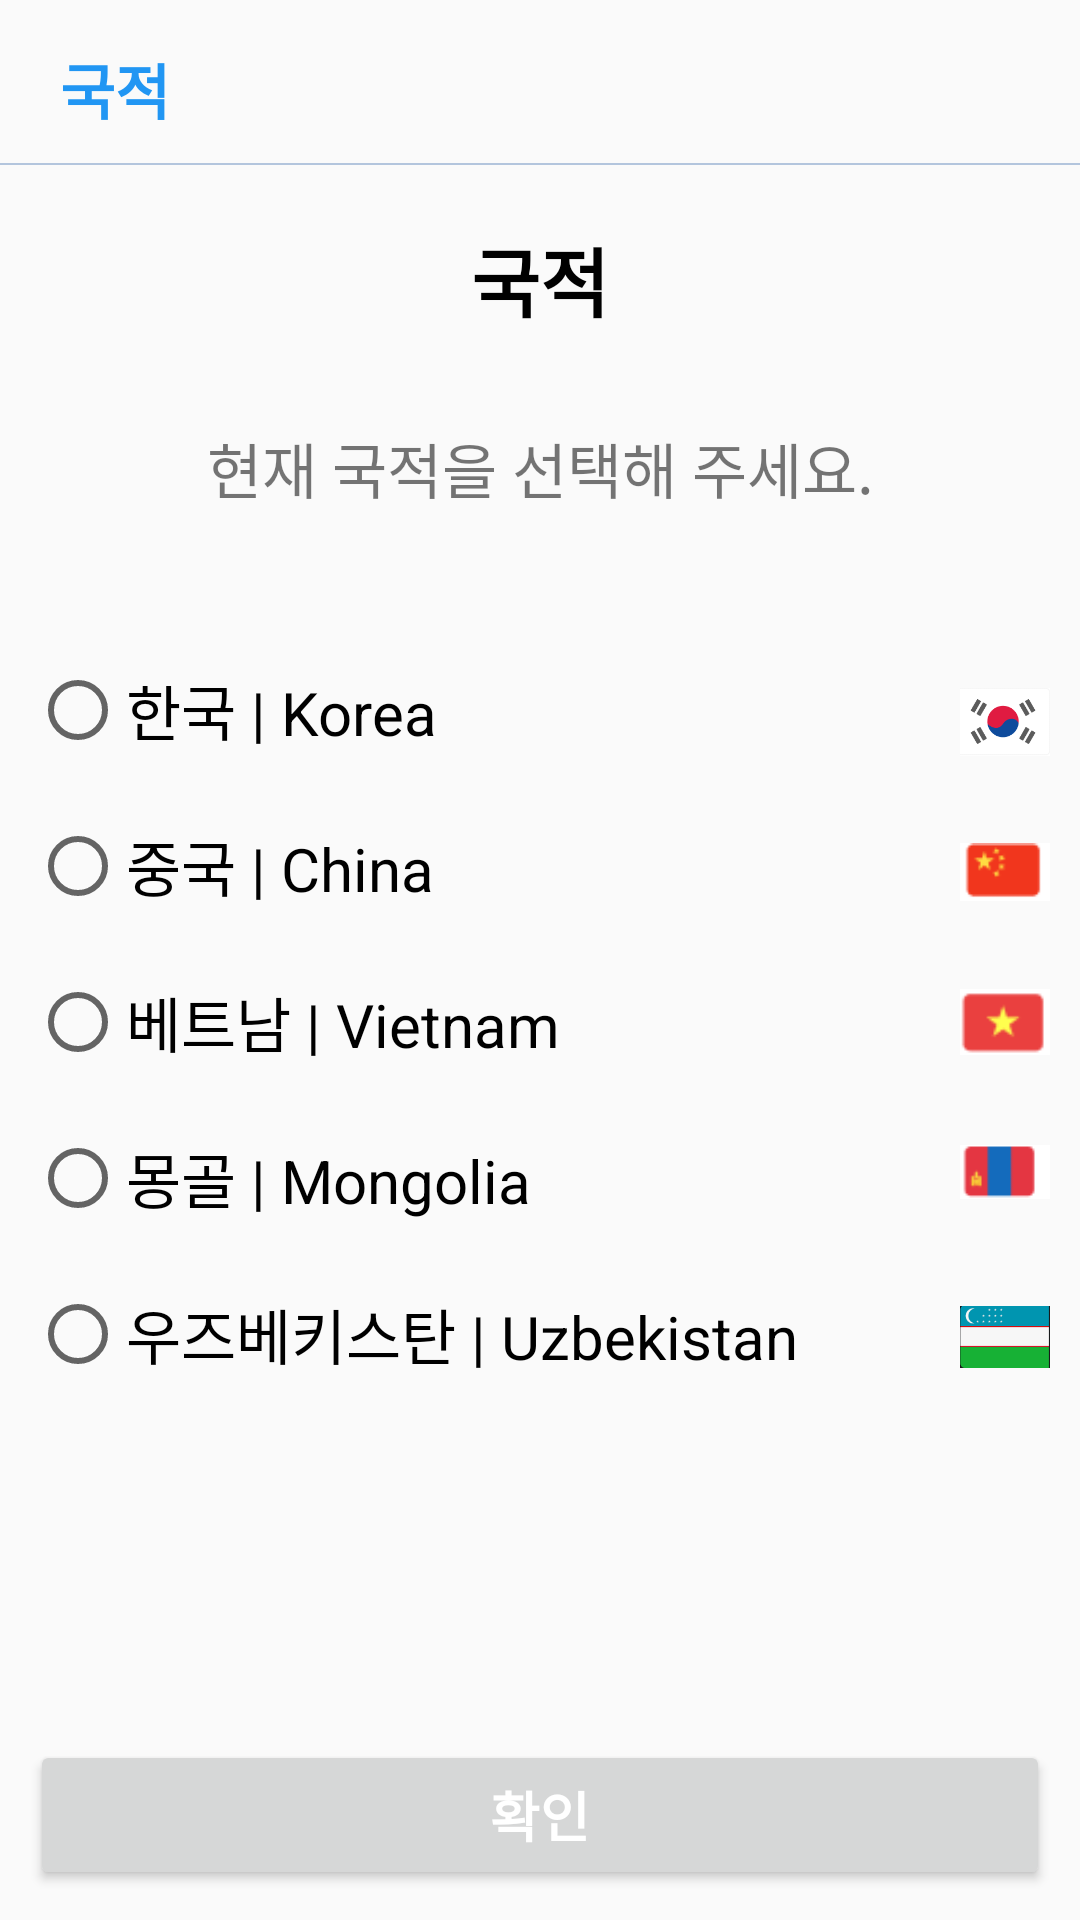

Locate icon controls on the screen. Image size 1080×1920, boxes as {"x1": x1, "y1": y1, "x2": x2, "y2": y2}.
china flag: {"x1": 966, "y1": 843, "x2": 1041, "y2": 897}
koreaflag: {"x1": 971, "y1": 699, "x2": 1035, "y2": 744}
mongo flag: {"x1": 963, "y1": 1146, "x2": 1035, "y2": 1198}
uzbek flag: {"x1": 960, "y1": 1306, "x2": 1050, "y2": 1368}
vietnam flag: {"x1": 962, "y1": 993, "x2": 1044, "y2": 1053}
